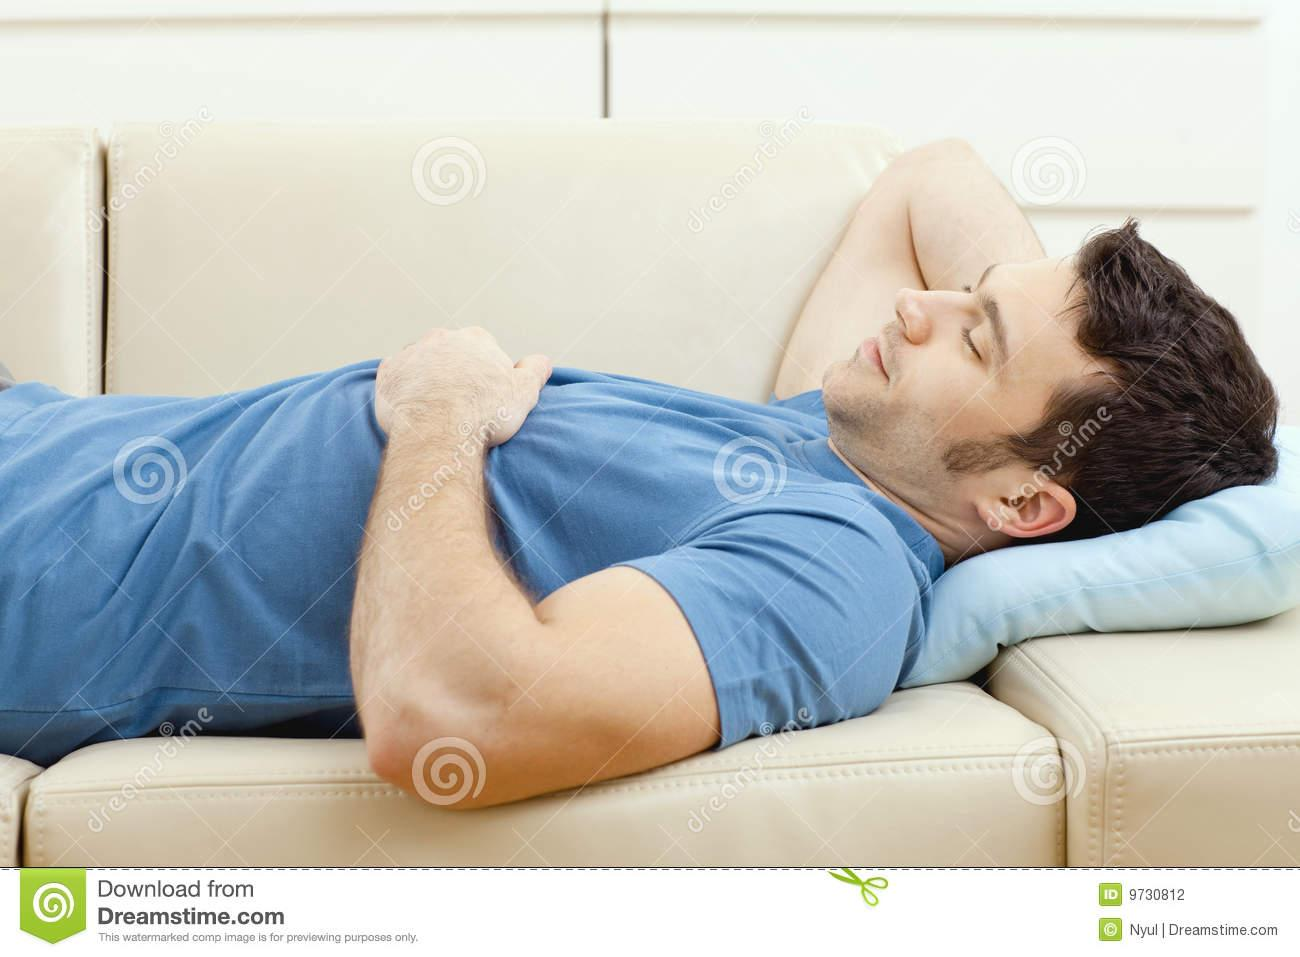sleep: (0, 139, 1281, 805), (826, 247, 1025, 403)
